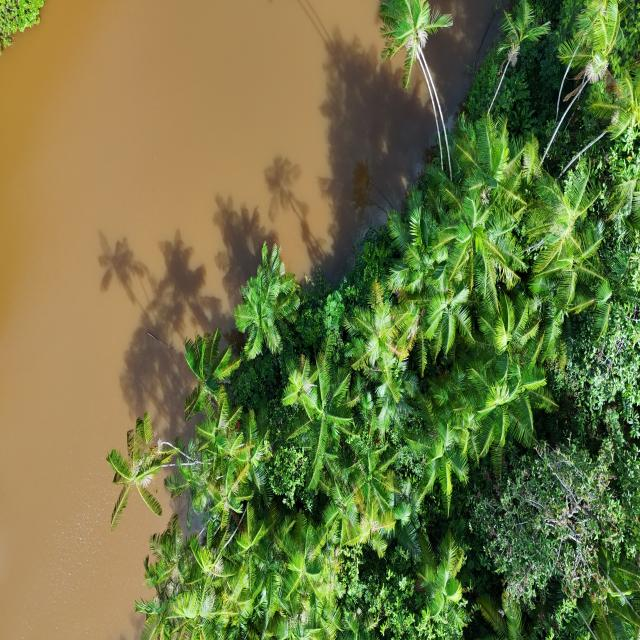vegetation: (105, 1, 638, 638)
